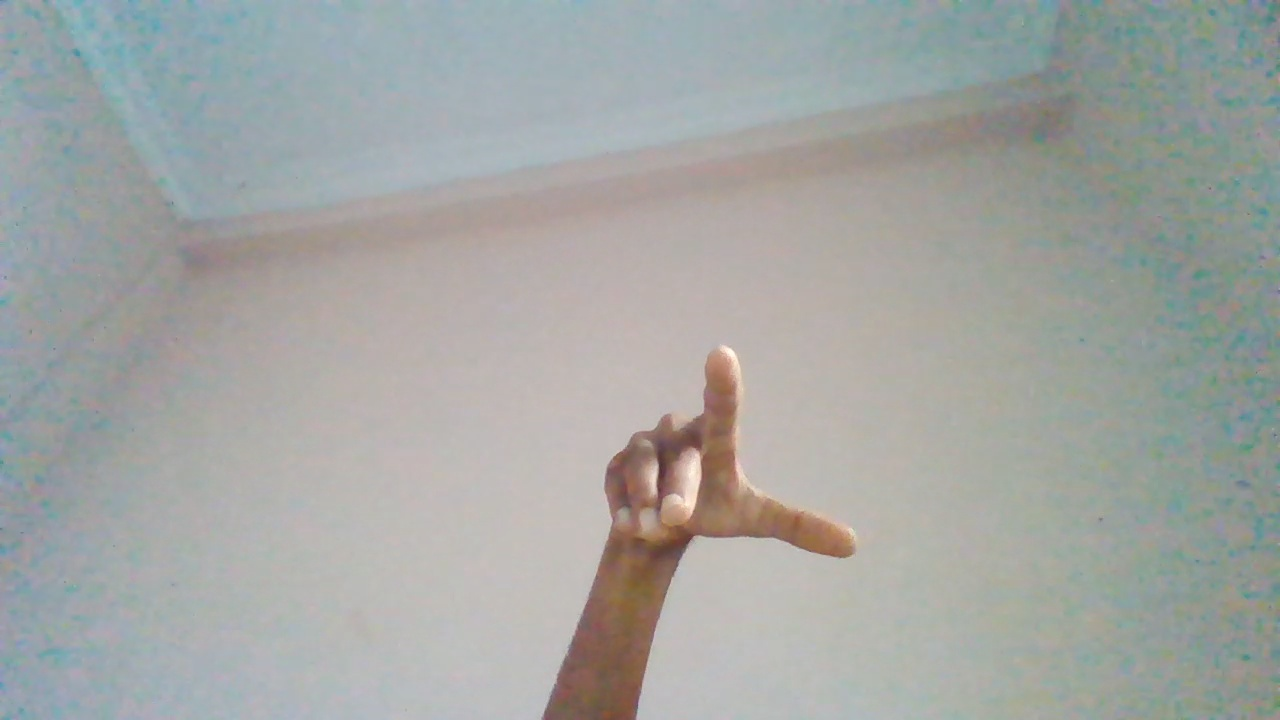ke: (592, 345, 858, 699)
